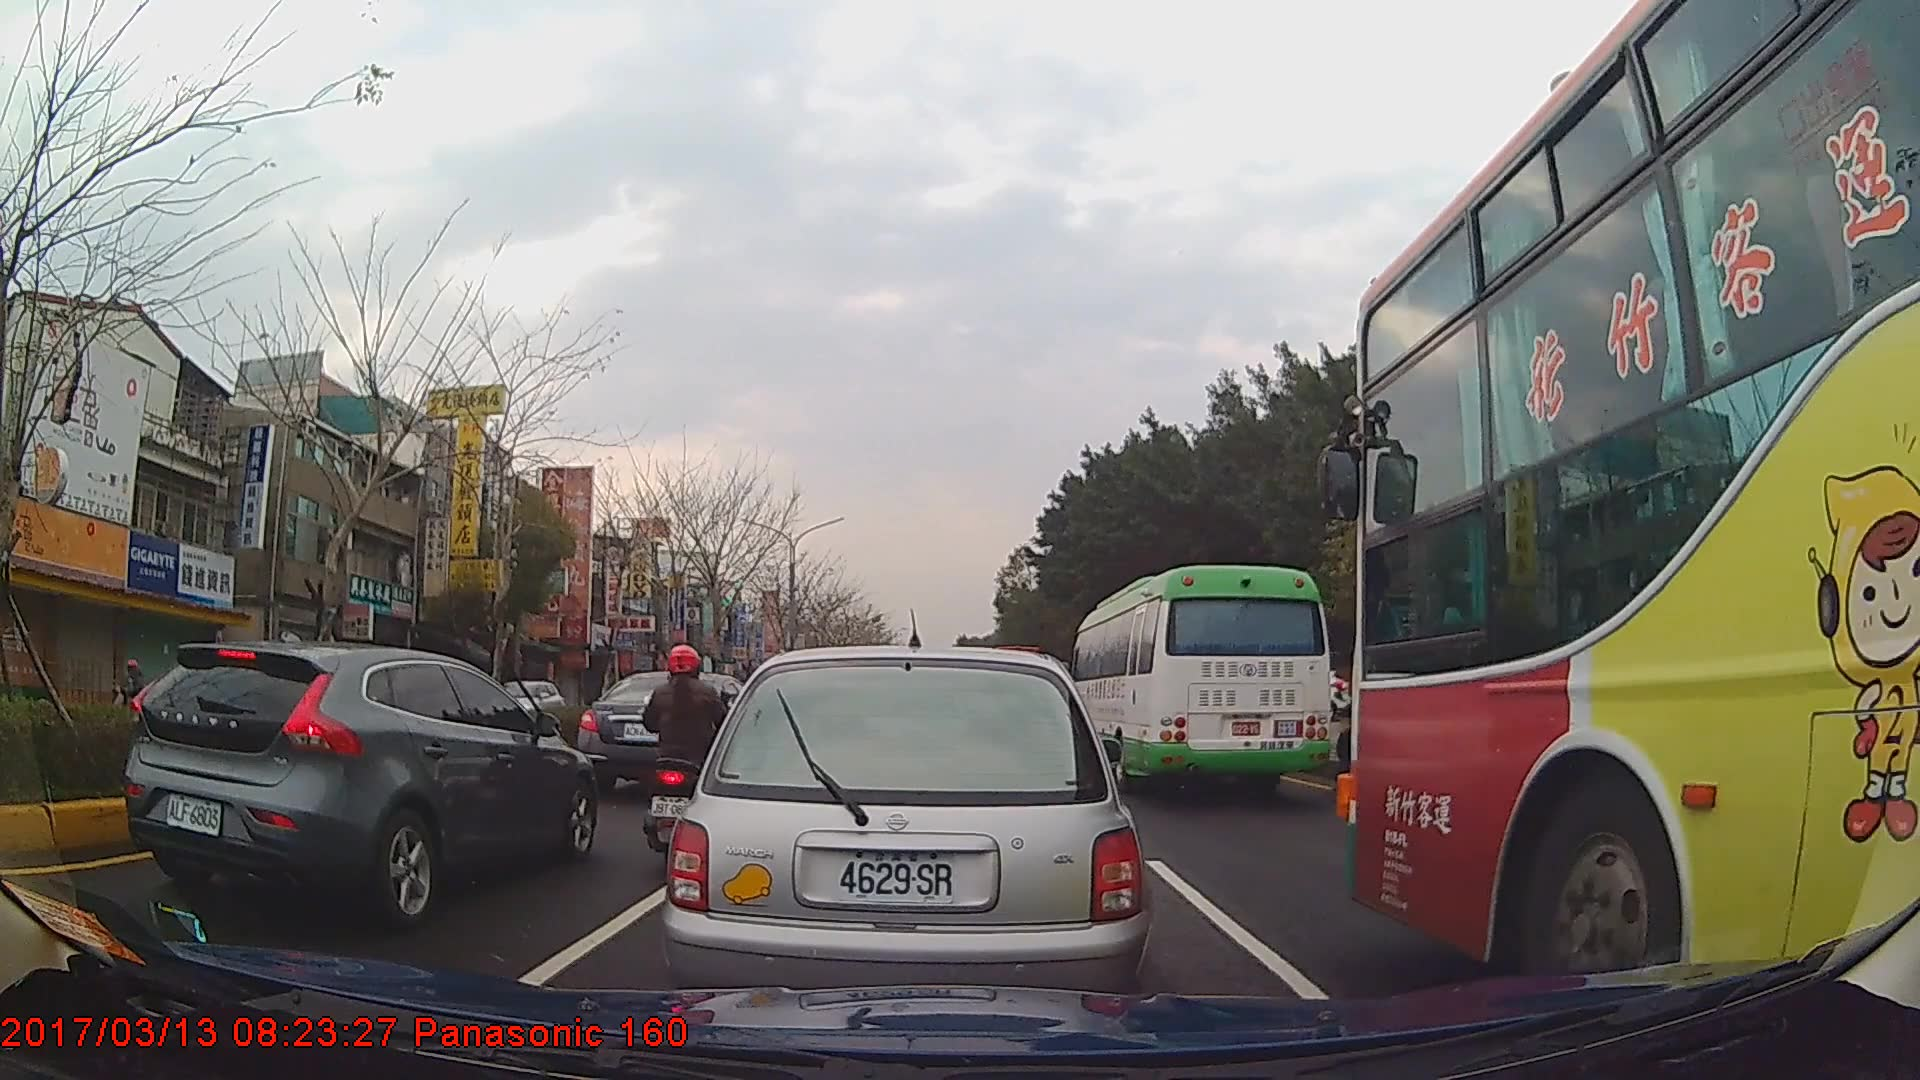rider: (639, 641, 743, 857), (112, 659, 149, 711)
vehicle: (1351, 0, 1920, 1011), (662, 637, 1151, 1024), (122, 637, 599, 931), (1065, 565, 1331, 800), (578, 668, 765, 792), (489, 678, 562, 729)
